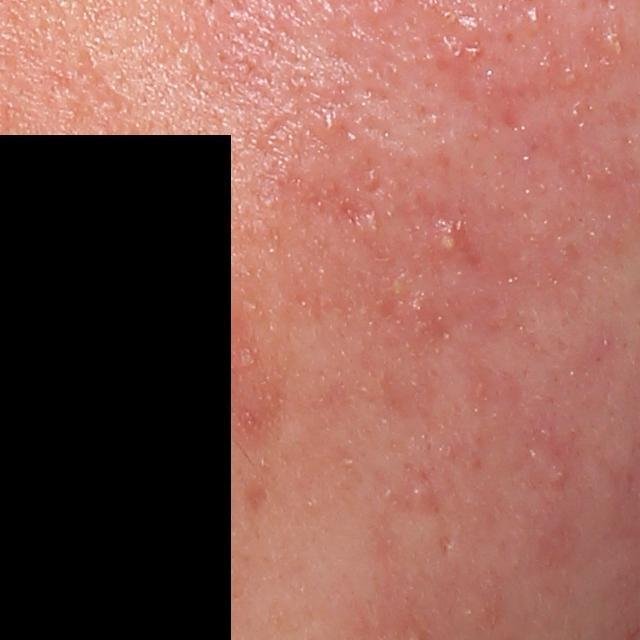atrophic_scar: (242, 480, 269, 516), (436, 528, 456, 554)
pustule: (596, 27, 631, 60)
